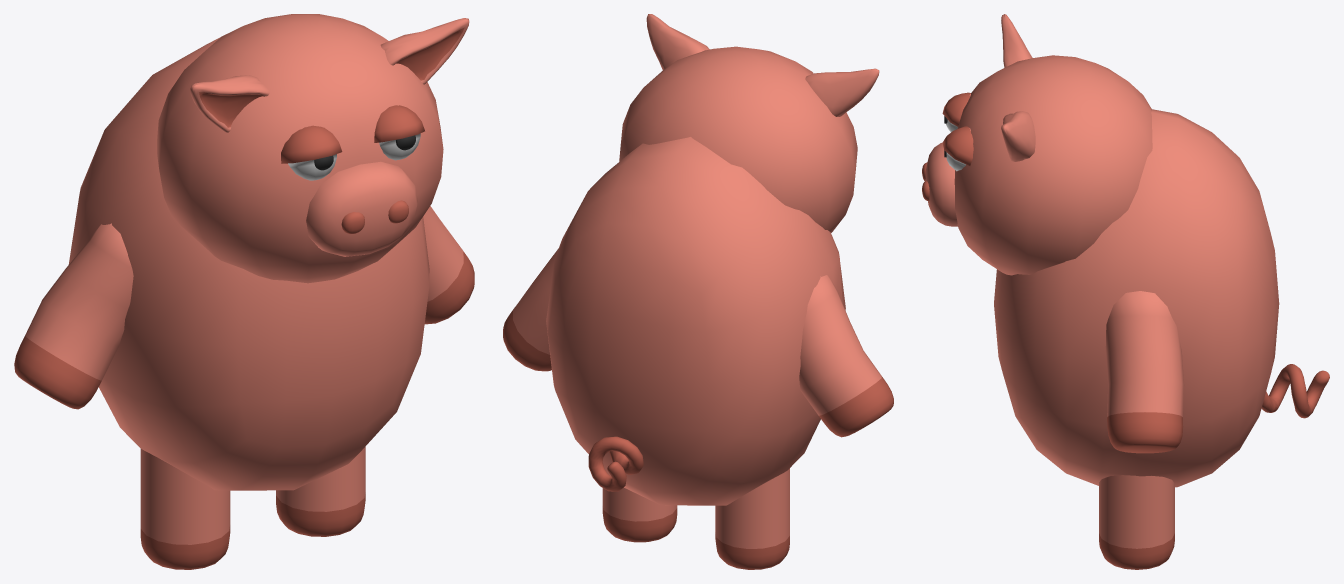
File: Pig2.fbx
3 views of the same model, side by side, from view 1: azimuth 30°, elevation 25°; view 2: azimuth 150°, elevation 25°; view 3: azimuth 270°, elevation 25° (orthographic). The views are drawn at different scales.
Visible parts, largest first — view 1: Pig.004; view 2: Pig.004; view 3: Pig.004.
Part boxes in pixels (left/top/right/bottom): Pig.004: left=14, top=14, right=474, bottom=569; Pig.004: left=503, top=14, right=893, bottom=569; Pig.004: left=922, top=14, right=1329, bottom=569.
Size of the model in its own units: 99.91 by 116 by 92.6.
